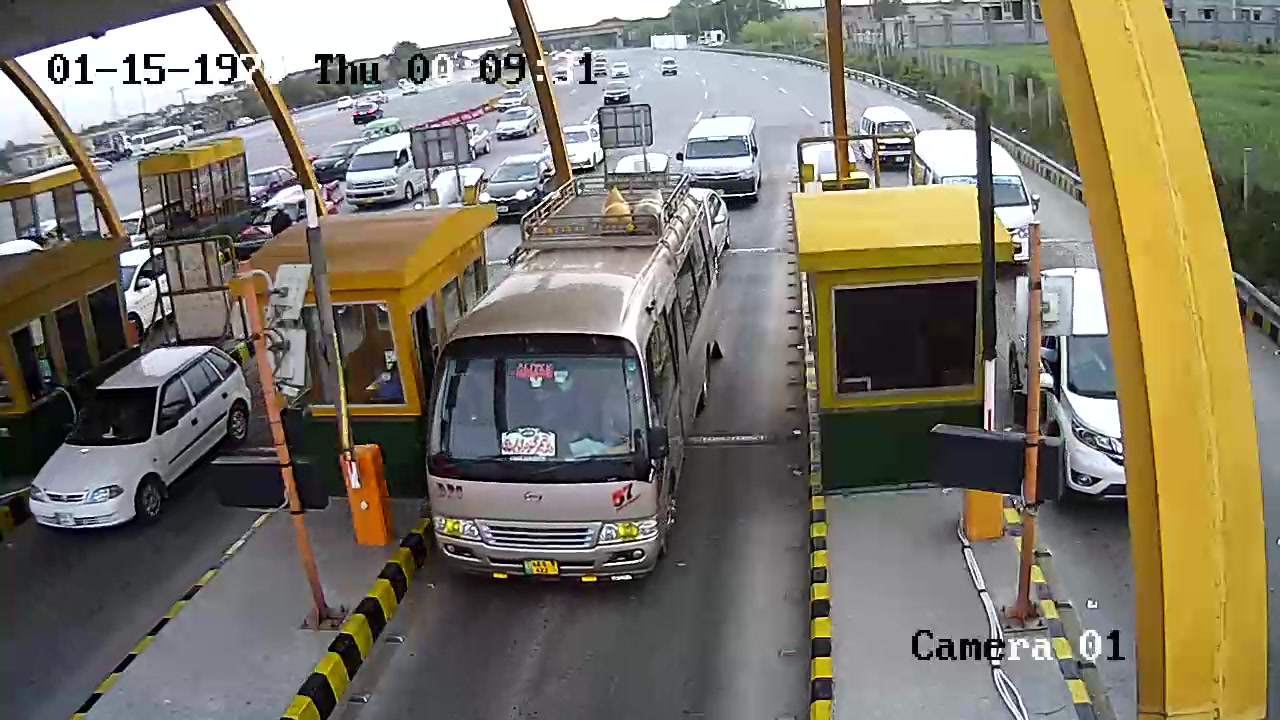F3: (421, 148, 738, 602)
